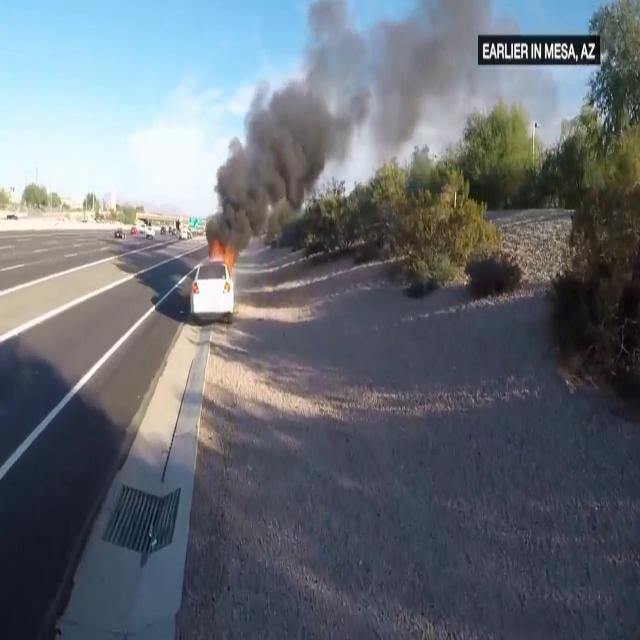Fire: (210, 239, 238, 301)
Smoke: (204, 24, 368, 252), (361, 3, 459, 180)
